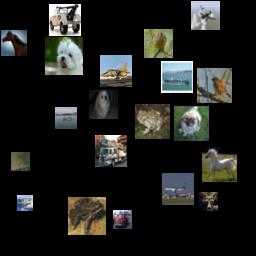airplane: (100, 55, 132, 87), (162, 173, 194, 205), (191, 1, 220, 30), (17, 195, 33, 211)
automobile: (113, 210, 132, 229)
bird: (197, 68, 232, 103), (144, 29, 173, 58), (11, 152, 30, 171)
deer: (199, 192, 218, 211)
dog: (45, 37, 83, 75), (174, 106, 209, 141), (89, 90, 118, 119)
frog: (68, 197, 106, 235), (135, 104, 170, 139)
ship: (161, 61, 193, 93), (55, 107, 77, 129)
truck: (95, 135, 127, 167), (49, 4, 81, 36)
